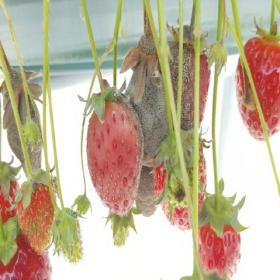Gray Mold: (87, 79, 144, 215), (120, 13, 170, 162), (0, 59, 45, 180), (166, 22, 212, 130), (135, 156, 165, 218)
